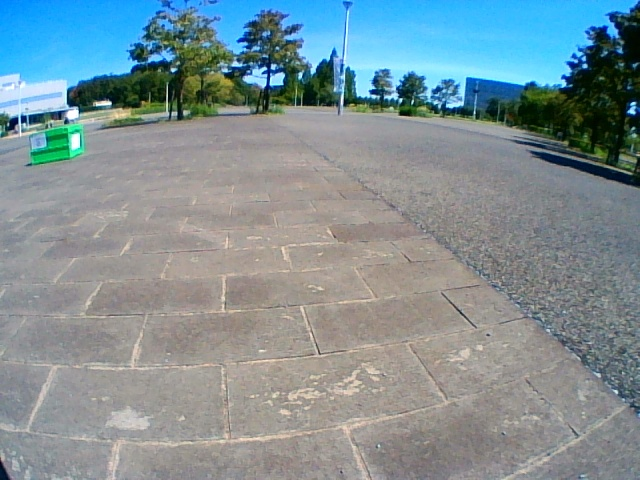green_box: (29, 125, 82, 165)
tag: (31, 135, 45, 148)
